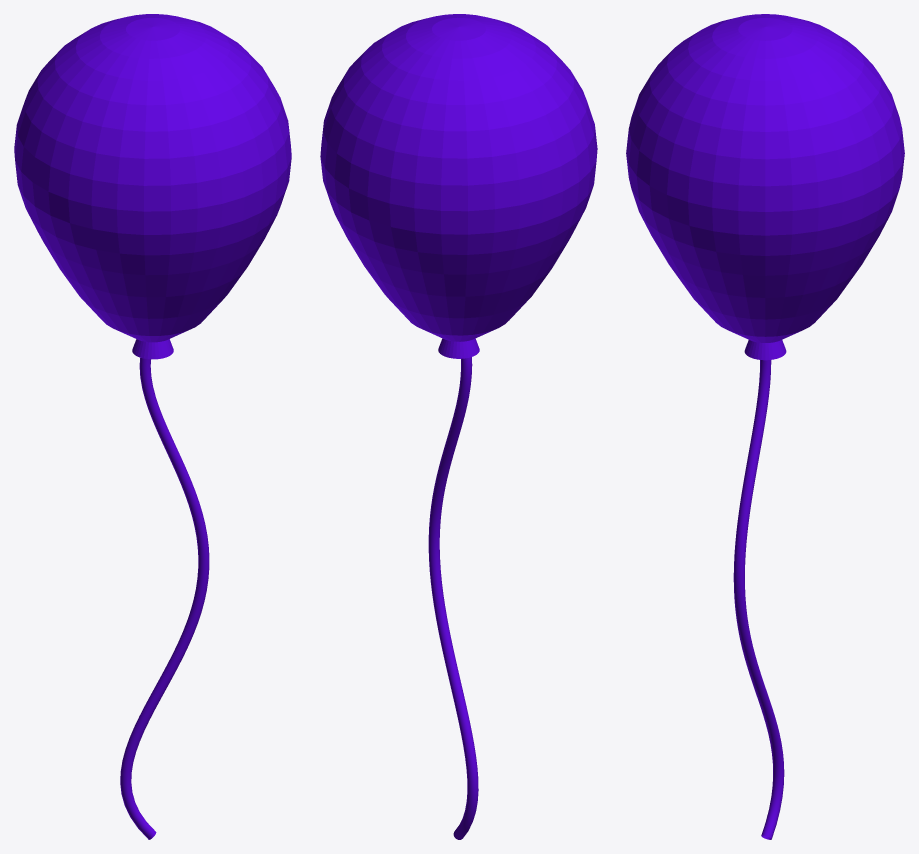
The model's file is BalloonModelPurple.gltf.
3 views of the same model, side by side, from view 1: azimuth 30°, elevation 25°; view 2: azimuth 150°, elevation 25°; view 3: azimuth 270°, elevation 25° (orthographic).
Visible parts, largest first — view 1: BalloonObject; view 2: BalloonObject; view 3: BalloonObject.
Part boxes in pixels (x1=…): BalloonObject: x1=14, y1=14, x2=291, y2=839; BalloonObject: x1=320, y1=14, x2=597, y2=839; BalloonObject: x1=626, y1=14, x2=904, y2=839.
Bounding box in the file's own units: 2 × 6.45 × 2.
